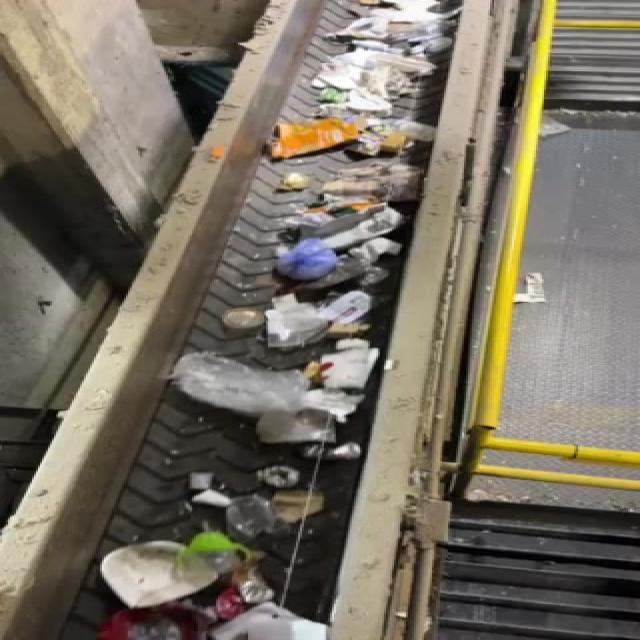pet: (156, 515, 285, 593)
ps: (99, 539, 217, 610)
